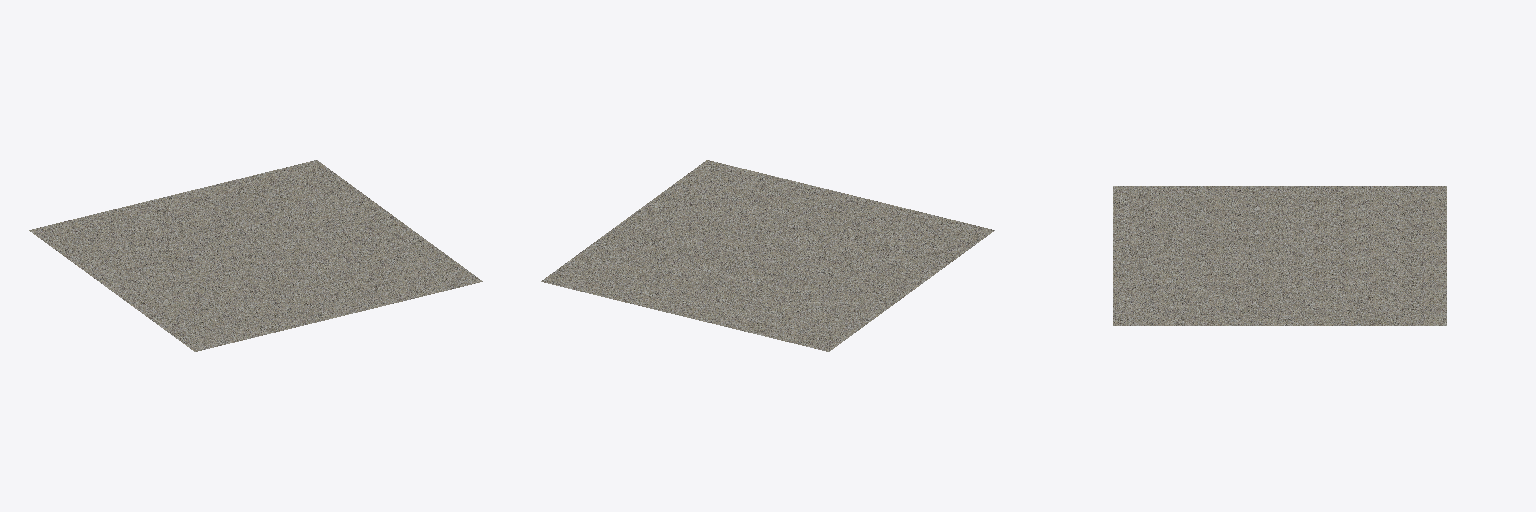
The picture shows the model from 3 angles: view 1: azimuth 30°, elevation 25°; view 2: azimuth 150°, elevation 25°; view 3: azimuth 270°, elevation 25°; orthographic projection.
Parts seen in each view (by area): view 1: Plane; view 2: Plane; view 3: Plane.
Boxes of the visible parts, x1=… form: Plane: x1=29, y1=160, x2=482, y2=351; Plane: x1=541, y1=160, x2=994, y2=351; Plane: x1=1113, y1=186, x2=1446, y2=325.
Bounding box in the file's own units: 100 × 0 × 100.
1 materials, 1 textured.